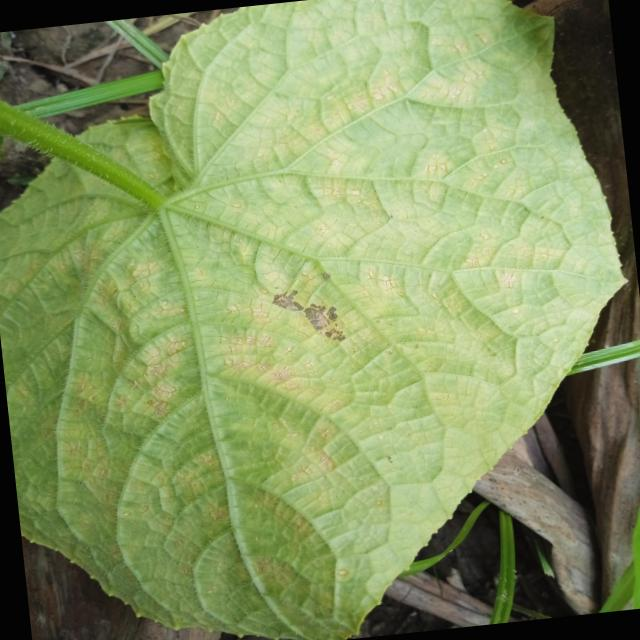cucumber_downy: (0, 157, 630, 623), (170, 5, 548, 187)
